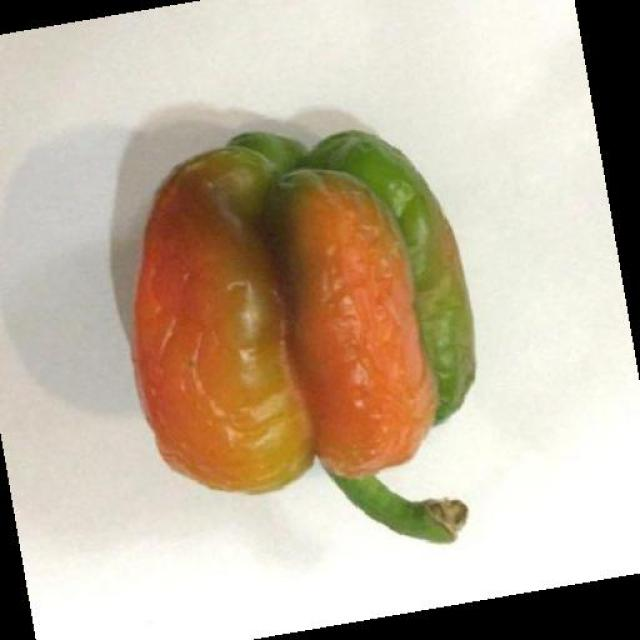Stale_Capsicum: (140, 126, 514, 536)
